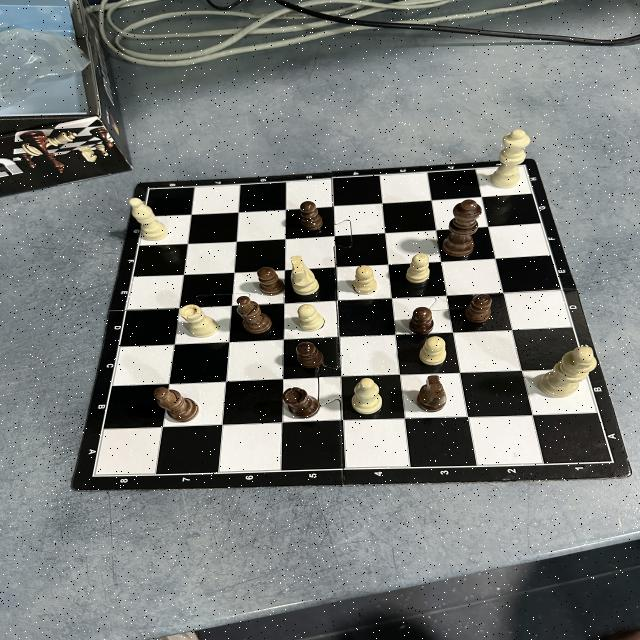Black-Bishop: (154, 387, 199, 422), (236, 296, 272, 334)
Black-Knight: (417, 375, 448, 411)
Black-Pawn: (464, 294, 492, 322), (258, 266, 284, 296), (296, 342, 324, 368), (300, 200, 324, 230), (409, 306, 434, 334)
Black-Queen: (442, 200, 482, 256)
Black-Rook: (282, 386, 320, 418)
White-Bishop: (130, 198, 168, 240), (351, 378, 382, 414)
White-King: (539, 347, 597, 398)
White-Knight: (290, 255, 322, 295)
White-Pawn: (419, 336, 446, 366), (297, 304, 325, 332), (406, 253, 431, 283), (354, 266, 376, 294)
White-Queen: (490, 128, 530, 188)
White-Rook: (178, 304, 218, 338)
